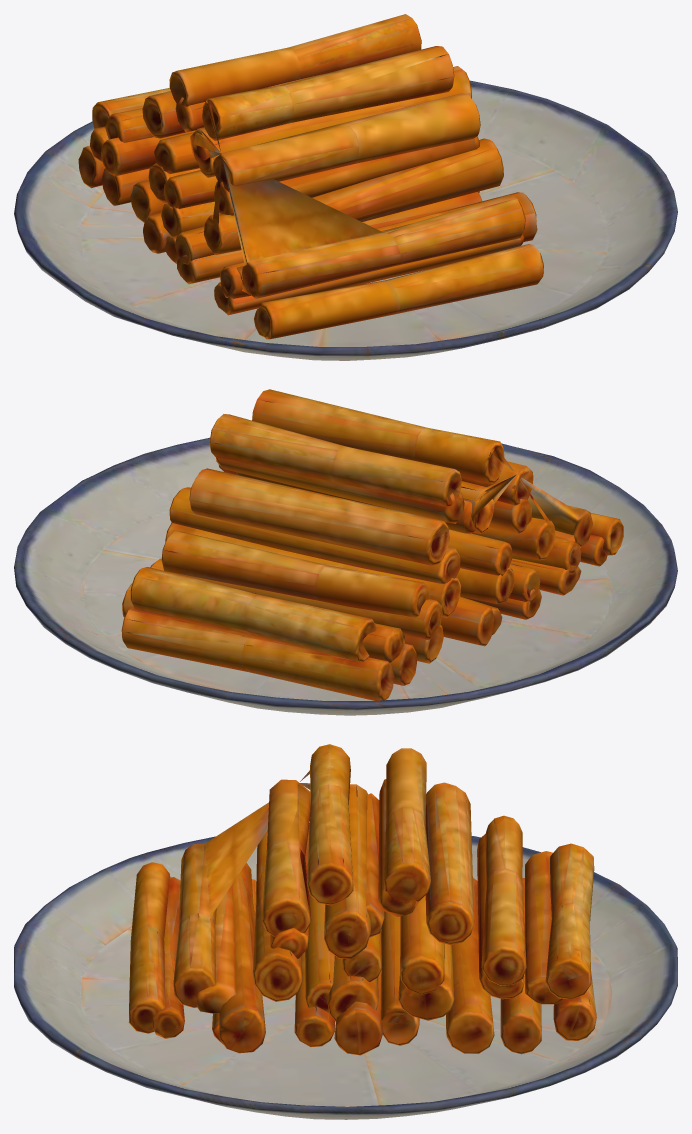
The model's file is lumpia.glb.
The picture shows the model from 3 angles, top to bottom: view 1: azimuth 30°, elevation 25°; view 2: azimuth 150°, elevation 25°; view 3: azimuth 270°, elevation 25°; orthographic projection.
Parts seen in each view (by area): view 1: geometry_0; view 2: geometry_0; view 3: geometry_0.
Boxes of the visible parts, x1,y1,x2,y2 form: geometry_0: (14, 14, 677, 360); geometry_0: (14, 389, 677, 715); geometry_0: (14, 744, 677, 1119).
Size of the model in its own units: 1 by 0.3323 by 1.
Materials: 1 (1 with a texture image).
